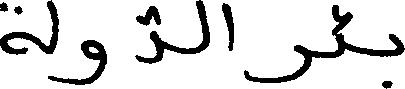X: (246, 40, 310, 87), (59, 35, 106, 88), (0, 0, 33, 59), (135, 1, 163, 68), (389, 29, 404, 88), (47, 0, 57, 86), (196, 0, 208, 57), (224, 0, 234, 55), (337, 0, 346, 61)
